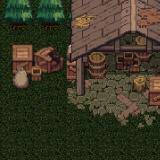Obstacle: (67, 0, 160, 131), (0, 35, 66, 98), (115, 81, 160, 151), (0, 0, 35, 34), (35, 0, 67, 35)
